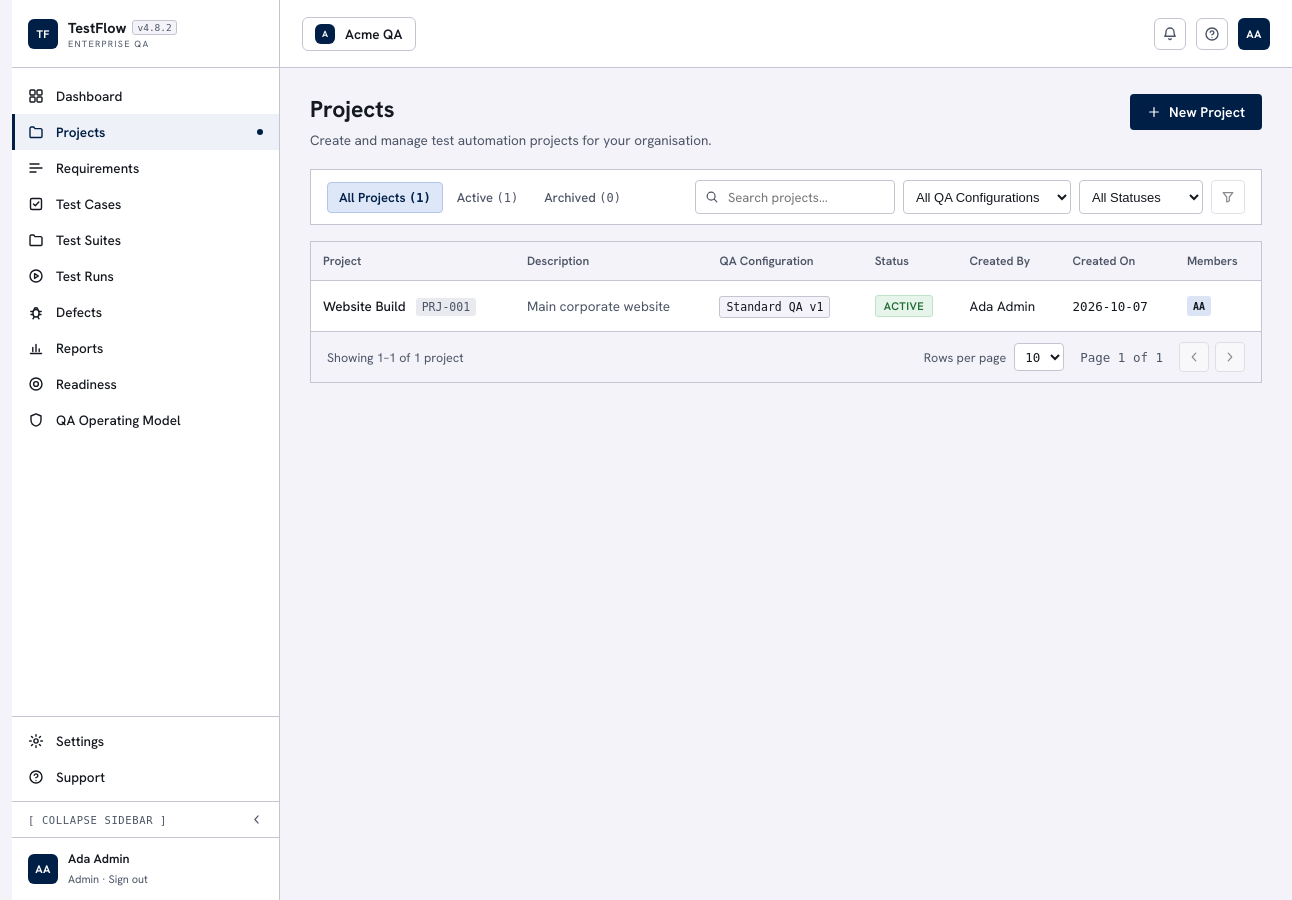
Projects page › Projects — List › shows a "no match" state with a Clear filters action when filters hide every project
This screenshot has width=1292, height=900.
expect the table is shown: met, box [311,242,1261,332]
Click the button "Archived (0)". click: (583, 197)
box: [532,182,633,212]
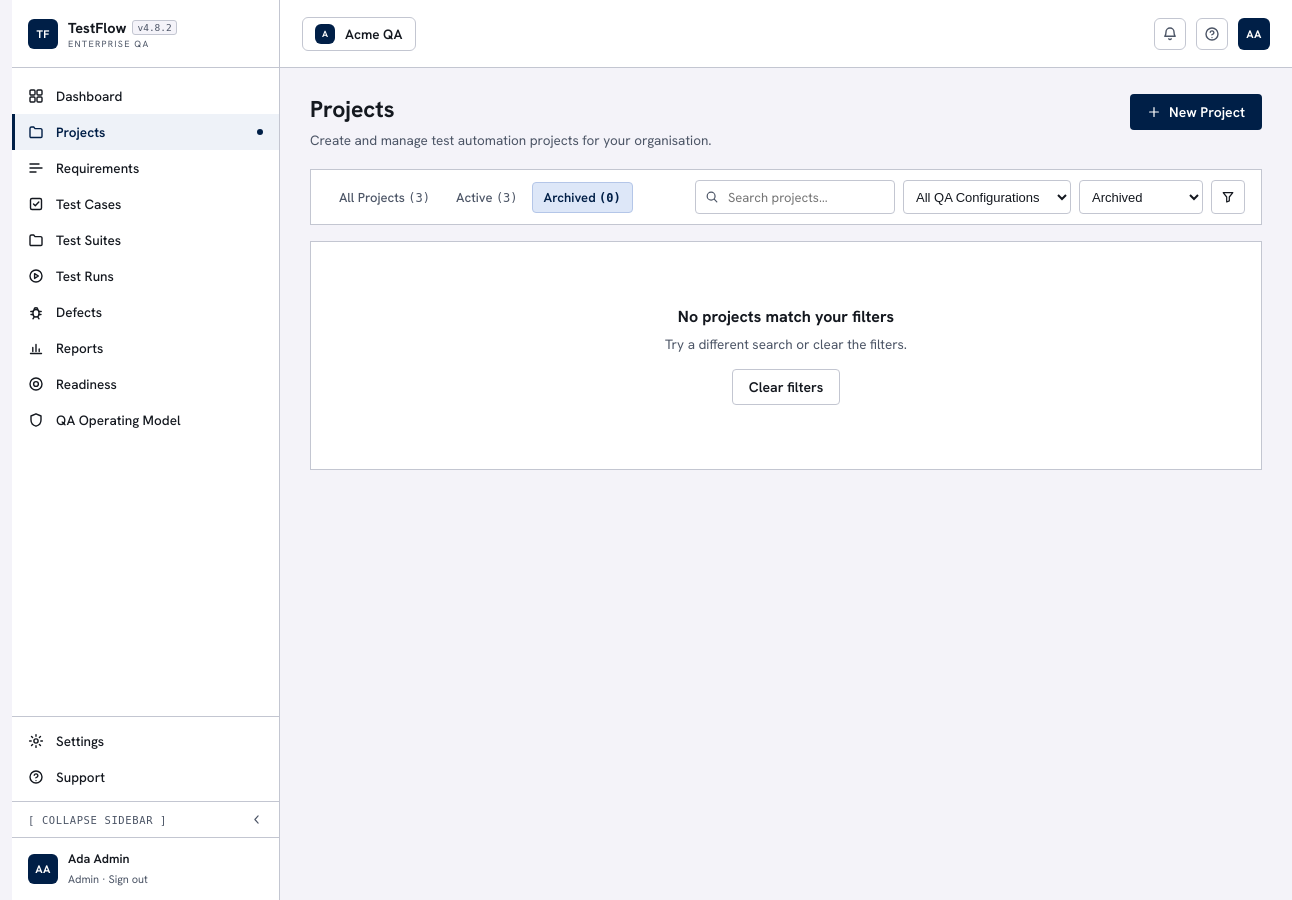
expect the heading "No projects match your filters" is shown: met, box [678,306,894,327]
Note: Scope to the message block: the toolbar's icon button is also named "Clear filters".
Click the button "Clear filters". click: (786, 387)
box: [732,369,840,405]
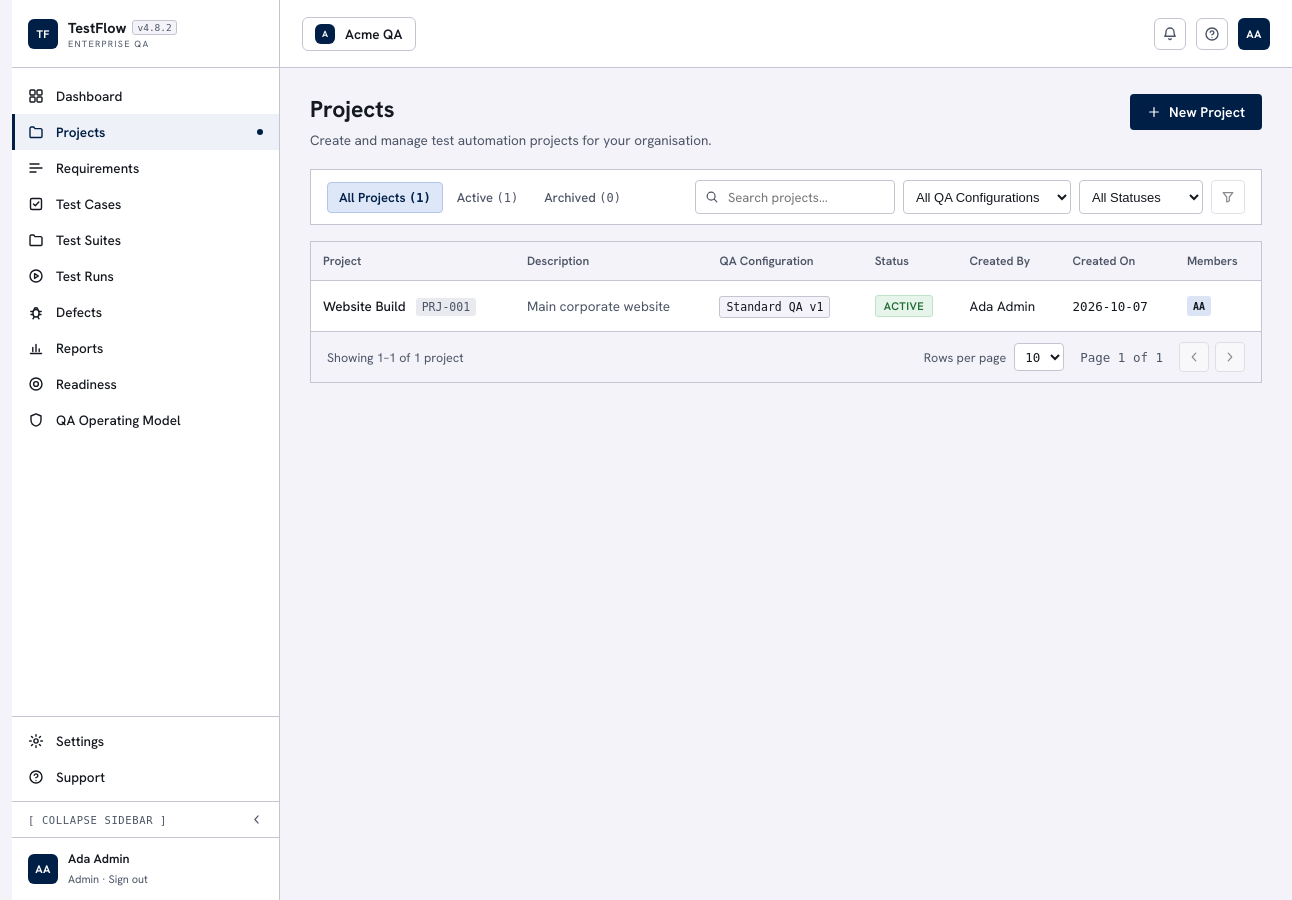
expect the table is shown: met, box [311,242,1261,332]
